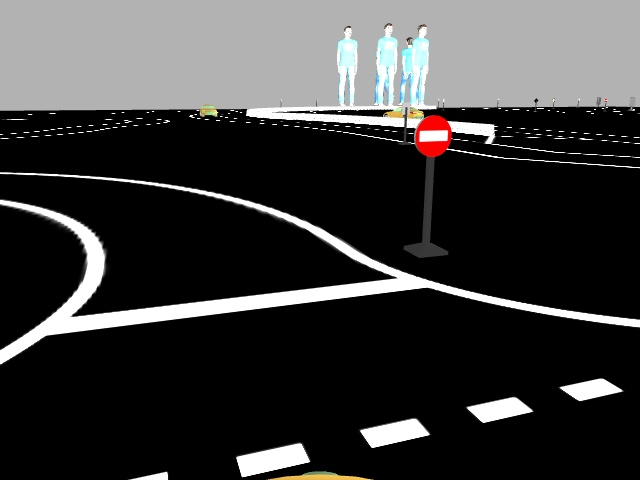NoEntry: (410, 115, 454, 157)
